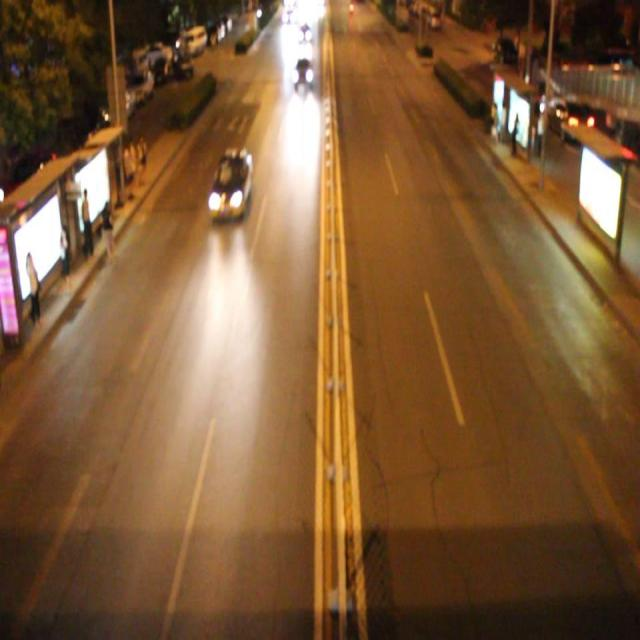car: (208, 145, 252, 220), (291, 52, 313, 82)
